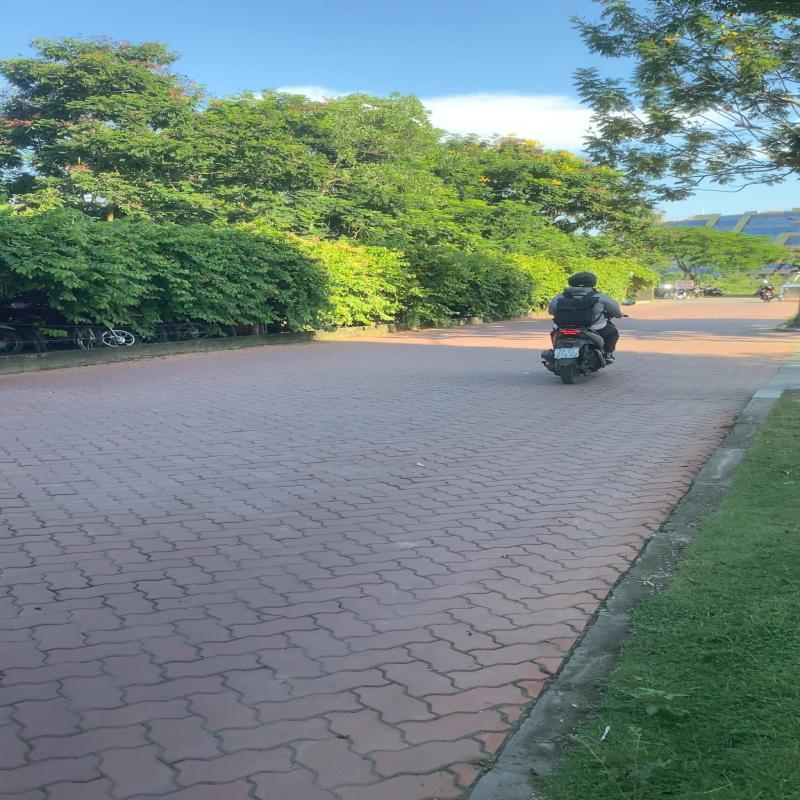helmet: (570, 272, 598, 290)
licenseplate: (552, 346, 581, 360)
motorcyclist: (536, 270, 638, 388)
